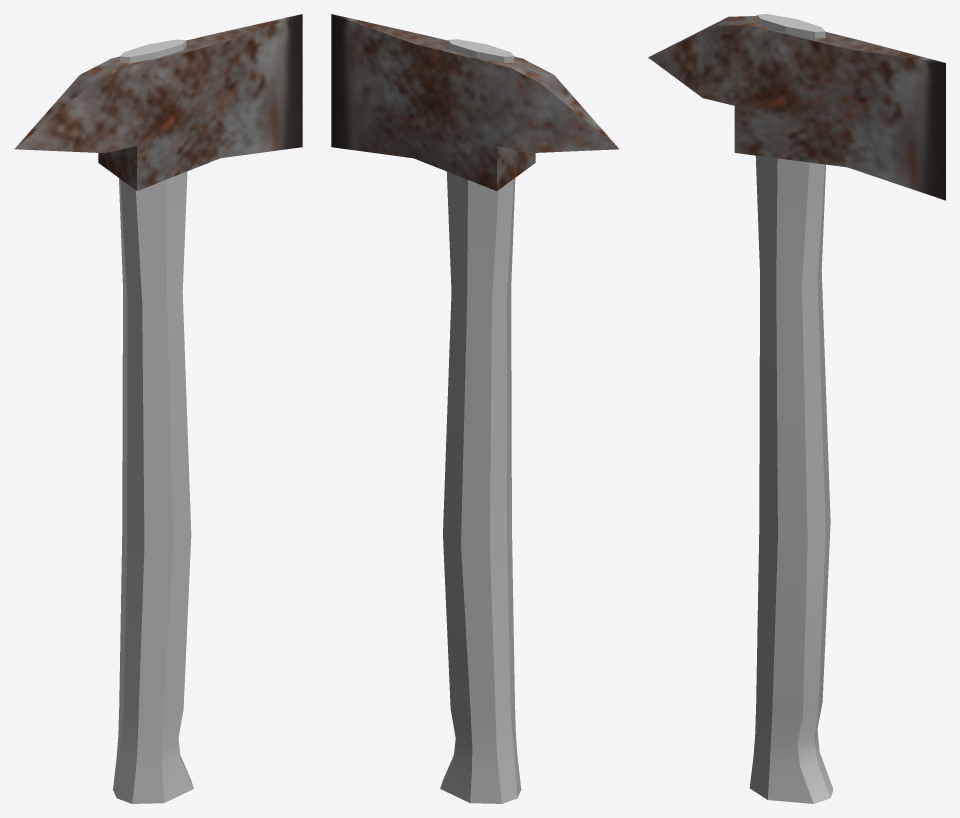
File: axe.fbx
3 renders of one model, left to right at view 1: azimuth 30°, elevation 25°; view 2: azimuth 150°, elevation 25°; view 3: azimuth 330°, elevation 25°, orthographic. The views are drawn at different scales.
Visible parts, largest first — view 1: Balta Sap, Balta Metal; view 2: Balta Sap, Balta Metal; view 3: Balta Sap, Balta Metal.
Part boxes in pixels (bbox=[...]): Balta Sap: bbox=[113, 39, 193, 803]; Balta Metal: bbox=[14, 14, 302, 190]; Balta Sap: bbox=[440, 39, 521, 803]; Balta Metal: bbox=[331, 14, 619, 190]; Balta Sap: bbox=[749, 14, 833, 803]; Balta Metal: bbox=[648, 16, 945, 200].
Size of the model in its own units: 86.04 by 211 by 20.09.
